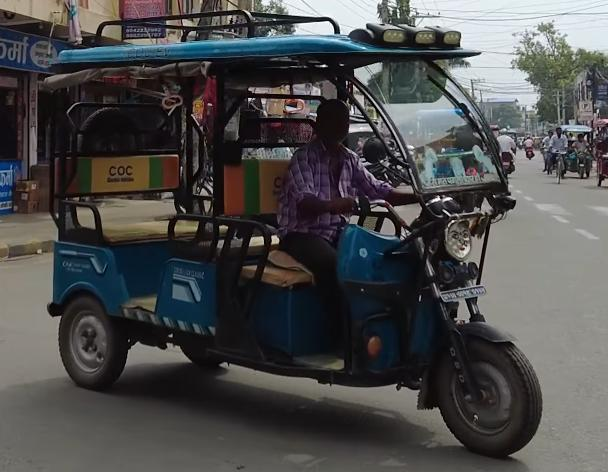e-rickshaw: (39, 23, 546, 464), (557, 123, 594, 178), (592, 116, 608, 189)
